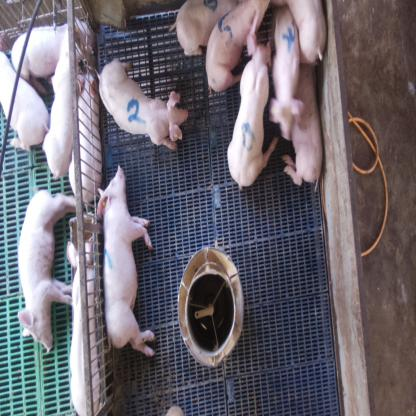2: (126, 96, 147, 127)
5: (218, 11, 234, 48)
7: (281, 21, 297, 51)
N-A: (241, 121, 255, 149)
